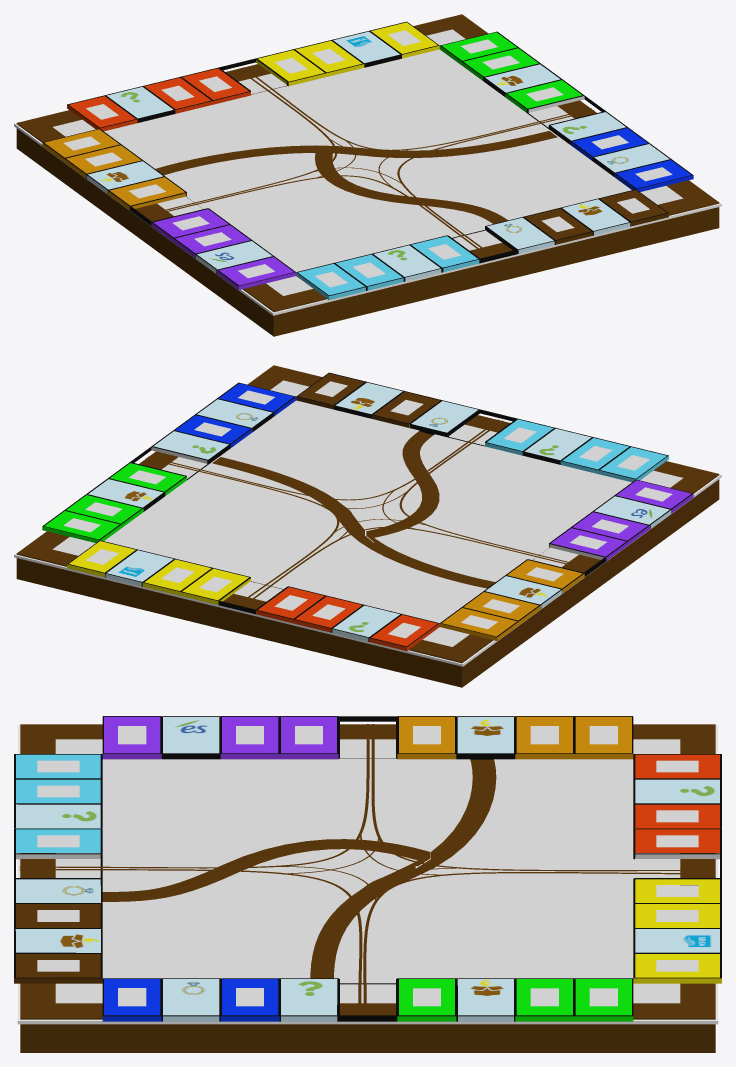
The model's file is collections.gltf.
The picture shows the model from 3 angles, top to bottom: view 1: azimuth 30°, elevation 25°; view 2: azimuth 150°, elevation 25°; view 3: azimuth 270°, elevation 25°; orthographic projection. The views are drawn at different scales.
Visible parts, largest first — view 1: socle, grille, bordure, rail1, rail3, rail4, rail2; view 2: socle, grille, bordure, rail2, rail4, rail3, rail1; view 3: socle, grille, bordure, rail3, rail4, rail1, rail2, Plane.006, Plane, Plane.001, Plane.002, Plane.003 (+5 smaller).
Part boxes in pixels (left/top/right/bottom): socle: left=16, top=14, right=719, bottom=336; grille: left=42, top=21, right=693, bottom=299; bordure: left=14, top=14, right=721, bottom=315; rail1: left=145, top=175, right=488, bottom=256; rail3: left=243, top=67, right=591, bottom=150; rail4: left=397, top=110, right=594, bottom=255; rail2: left=143, top=68, right=337, bottom=215; socle: left=16, top=365, right=719, bottom=687; grille: left=42, top=372, right=693, bottom=650; bordure: left=14, top=365, right=721, bottom=666; rail2: left=242, top=526, right=588, bottom=606; rail4: left=148, top=419, right=499, bottom=500; rail3: left=145, top=458, right=339, bottom=605; rail1: left=399, top=420, right=590, bottom=567; socle: left=20, top=724, right=715, bottom=1052; grille: left=14, top=716, right=721, bottom=1021; bordure: left=17, top=725, right=718, bottom=1024; rail3: left=363, top=872, right=715, bottom=1015; rail4: left=19, top=869, right=362, bottom=1015; rail1: left=19, top=724, right=369, bottom=868; rail2: left=371, top=724, right=715, bottom=871; Plane.006: left=173, top=979, right=214, bottom=997; Plane: left=57, top=807, right=98, bottom=824; Plane.001: left=290, top=980, right=331, bottom=997; Plane.002: left=675, top=782, right=716, bottom=799; Plane.003: left=466, top=979, right=507, bottom=996.
Bounding box in the file's own units: 4.07 × 0.2512 × 4.05.
18 materials, 18 textured.
